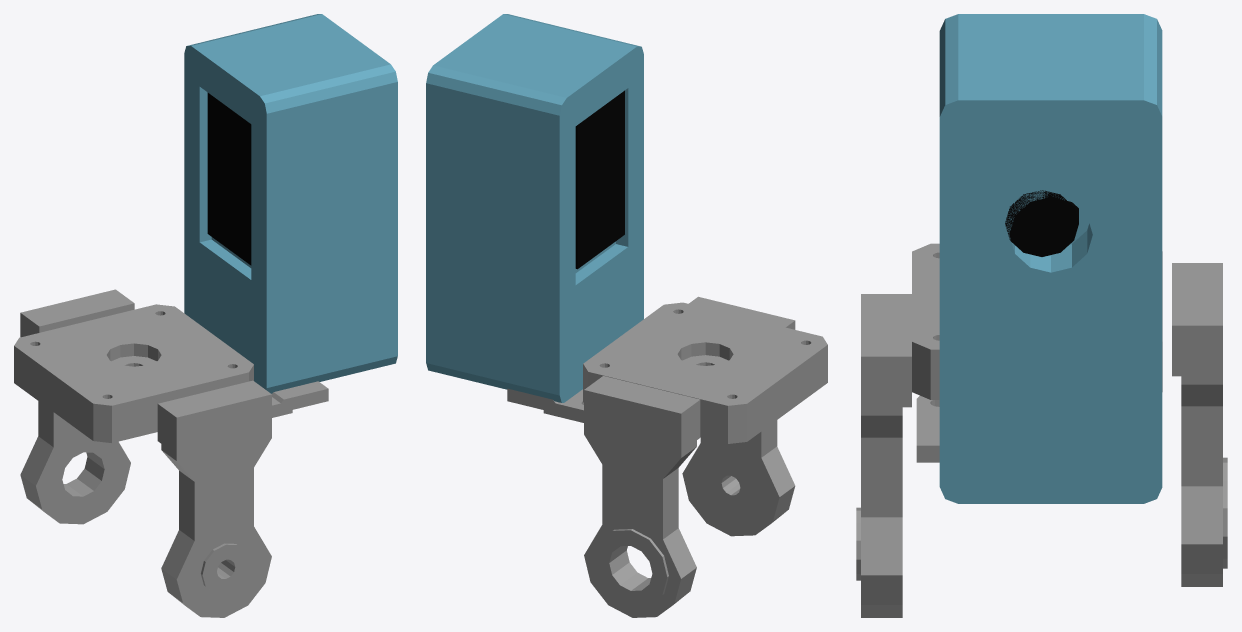
The model's file is head-leye-y.glb.
3 renders of one model, left to right at view 1: azimuth 30°, elevation 25°; view 2: azimuth 150°, elevation 25°; view 3: azimuth 270°, elevation 25°, orthographic. The views are drawn at different scales.
Bounding box in the file's own units: 0.0517 × 0.0766 × 0.04.
